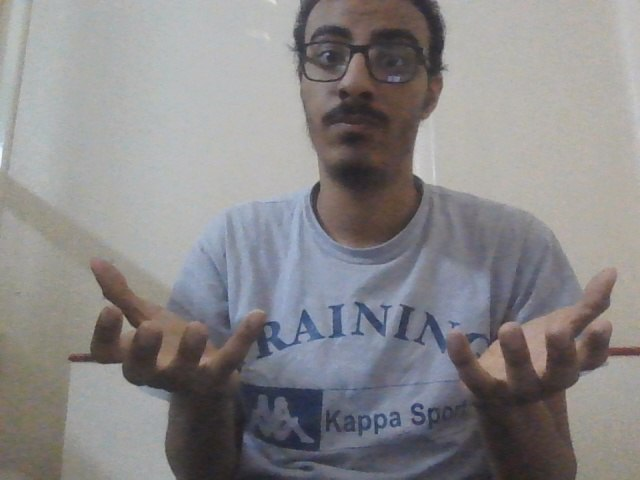What: (76, 251, 618, 410)
